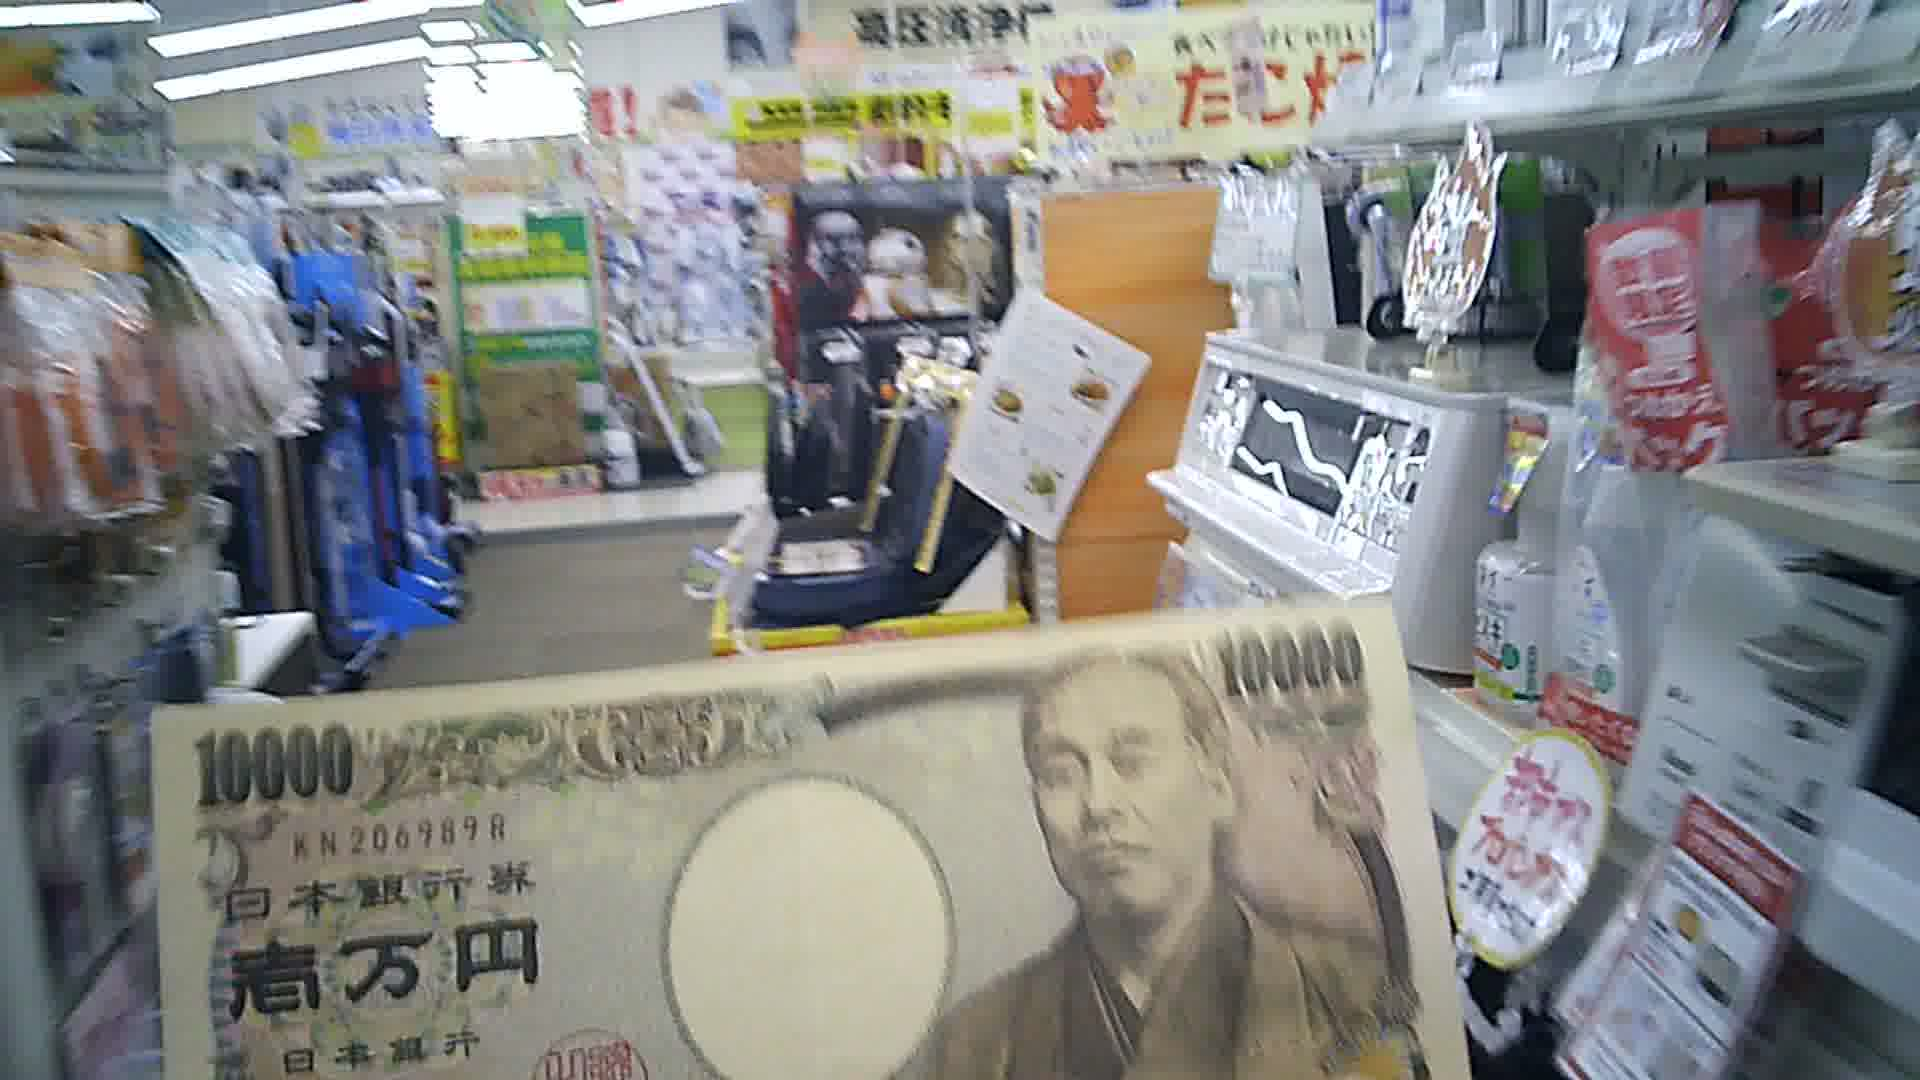10,000 Yen: (123, 607, 1458, 1079)
